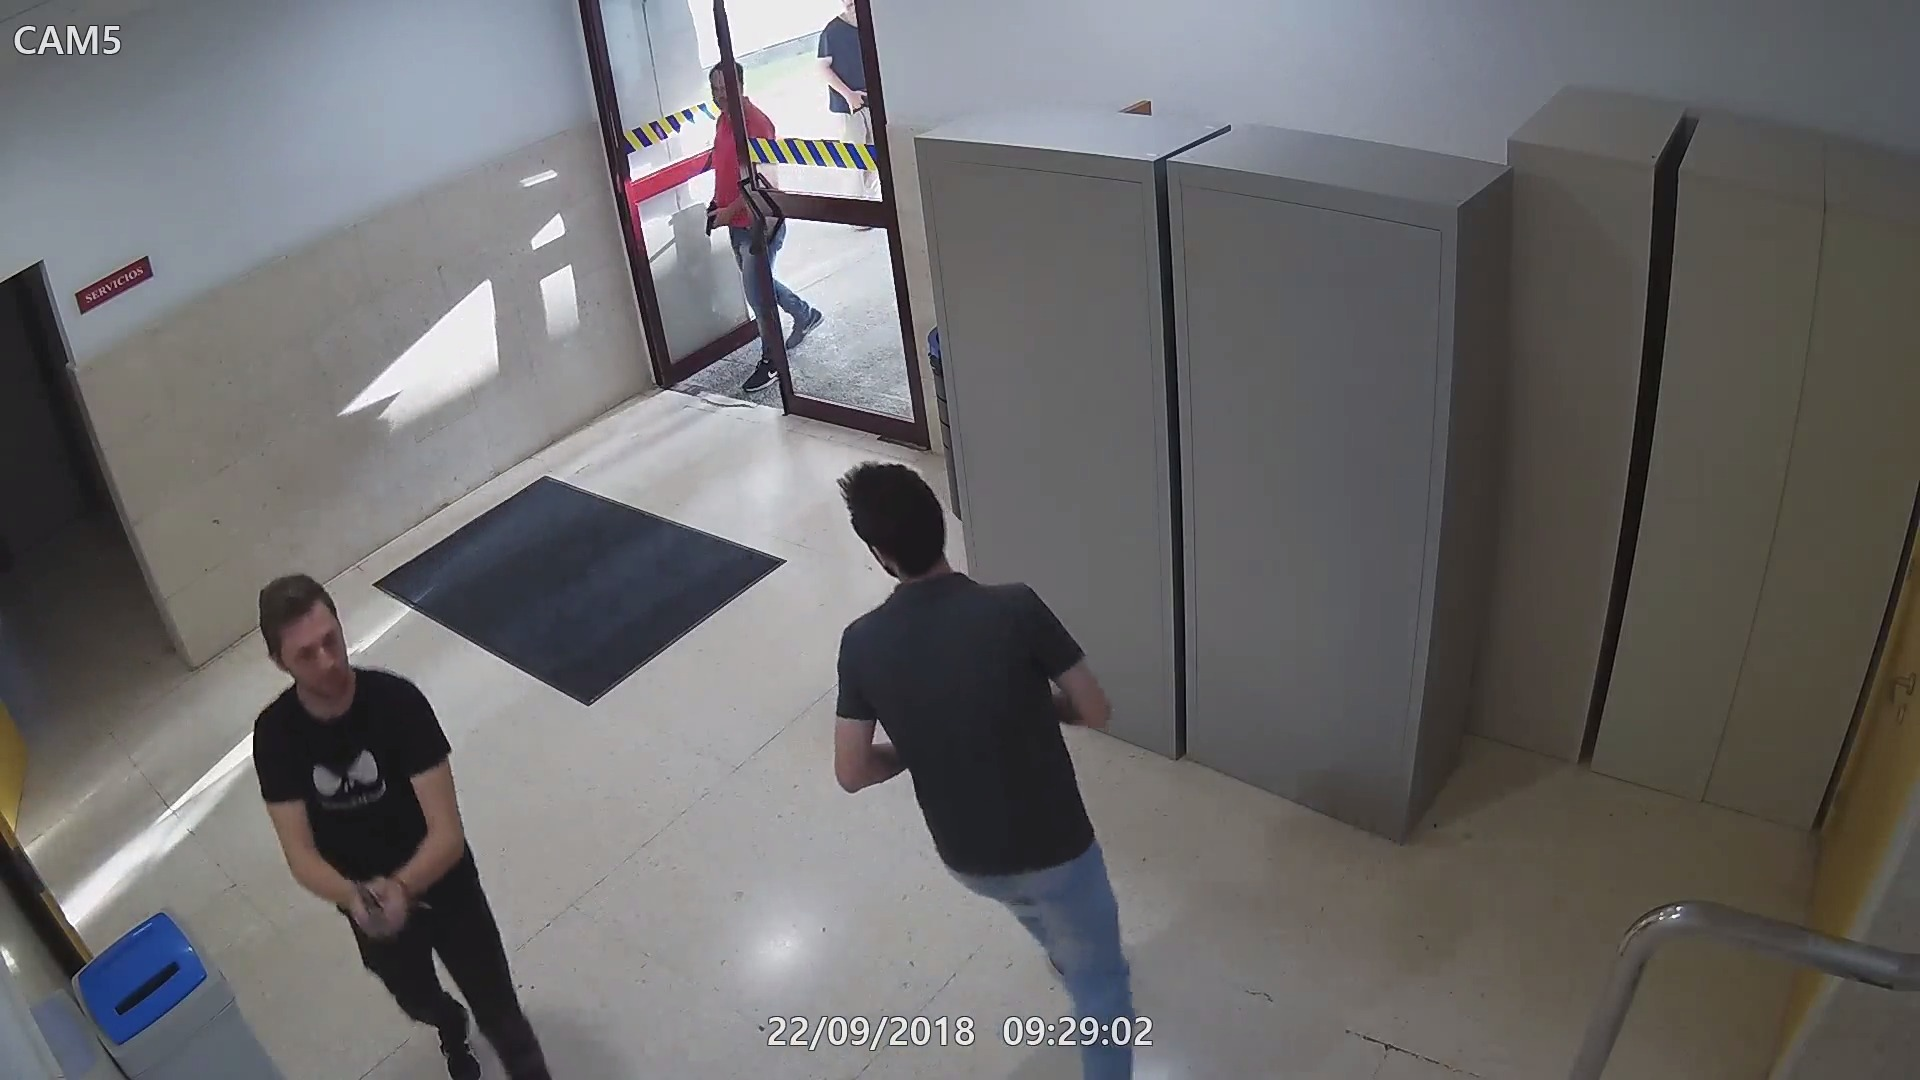Handgun: (342, 873, 407, 943), (699, 198, 731, 241)
